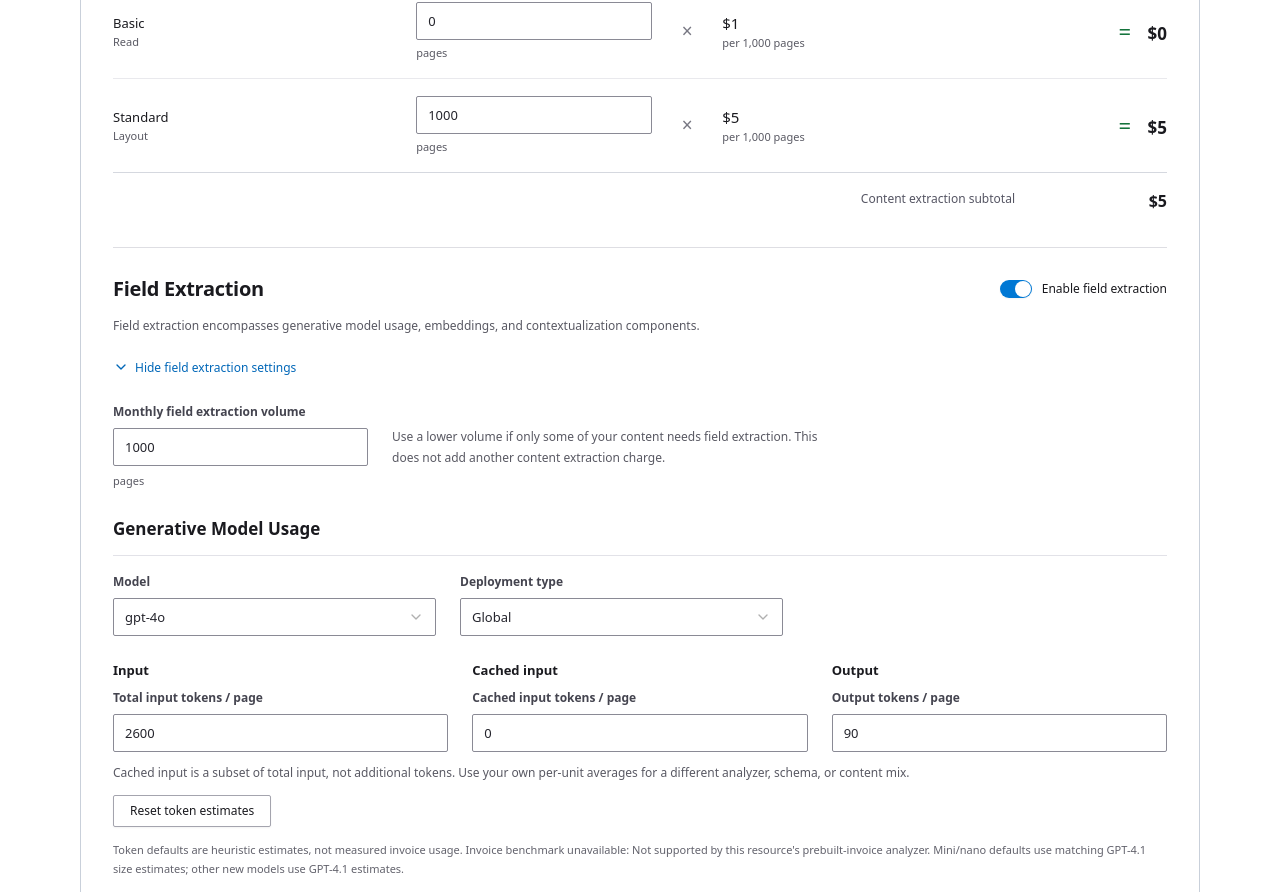
Test: Pricing calculator UI › shows small token quantities precisely instead of rounding billable usage to zero
(page scrolled)
Step 1. Replace the text in the number field labelled "Monthly field extraction volume" with "1" → (240, 447), box [113, 428, 368, 466]
(page scrolled)
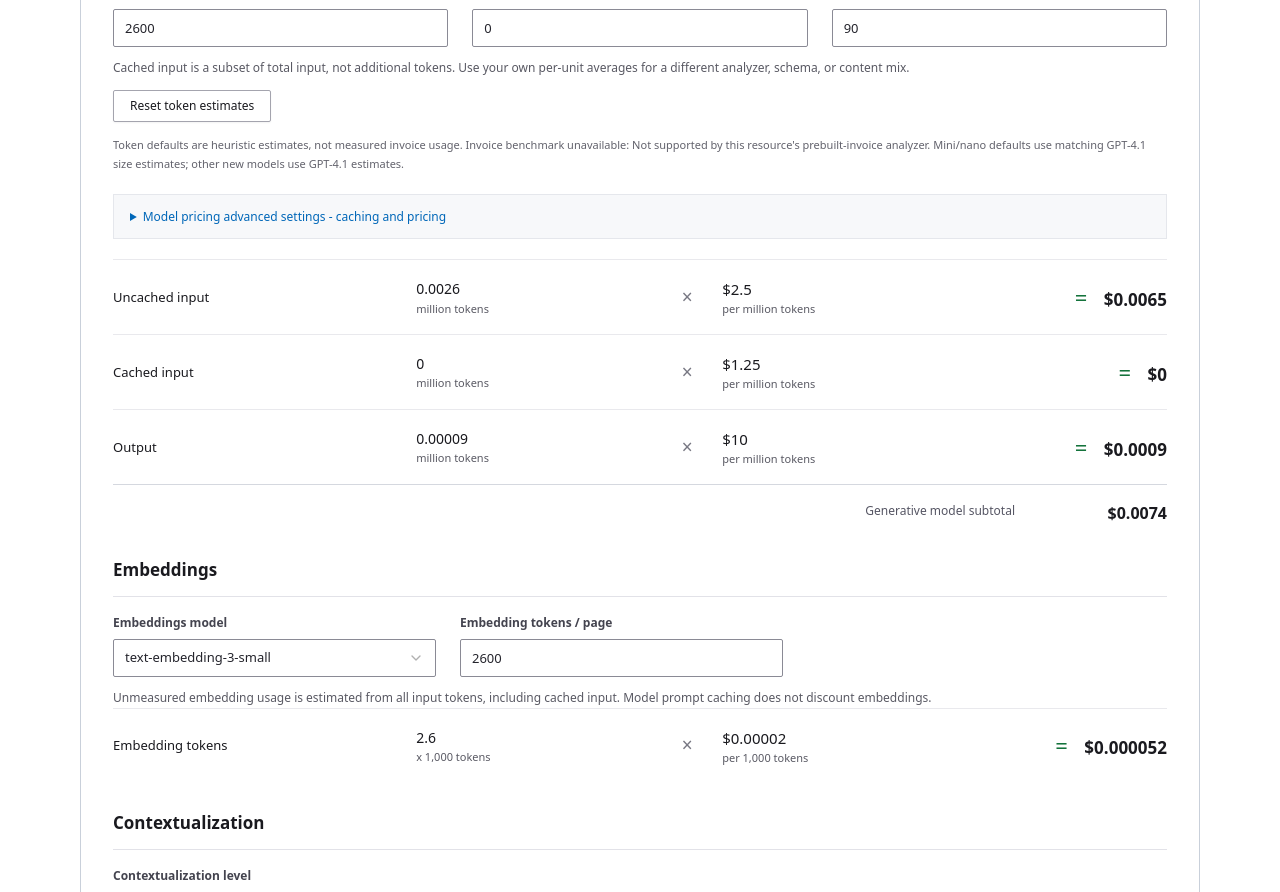
expect the text "0.0026" is shown: met, box [416, 279, 460, 298]
expect the text "0.00009" is shown: met, box [416, 429, 468, 448]
